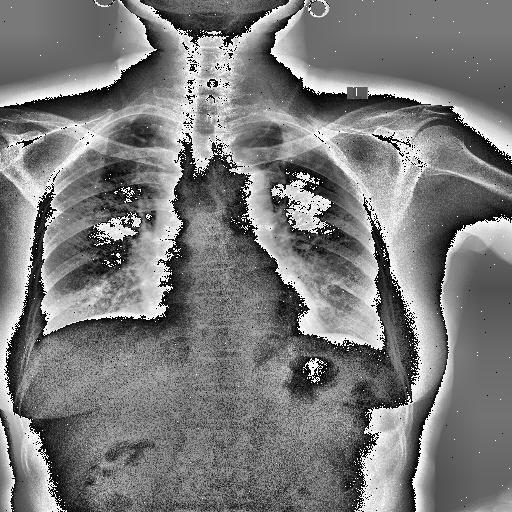0- Aortic enlargement: (210, 162, 270, 226), (203, 162, 271, 218), (213, 164, 271, 214)
13- Pulmonary fibrosis: (49, 123, 146, 232), (48, 204, 74, 216), (128, 134, 148, 144)
3- Cardiomegaly: (136, 276, 328, 349)
5- ILD: (46, 171, 148, 310), (289, 202, 379, 336)
6- Infiltration: (49, 123, 146, 232)
7- Lung Opacity: (276, 126, 320, 158)
9- Other lesion: (276, 126, 320, 158)
